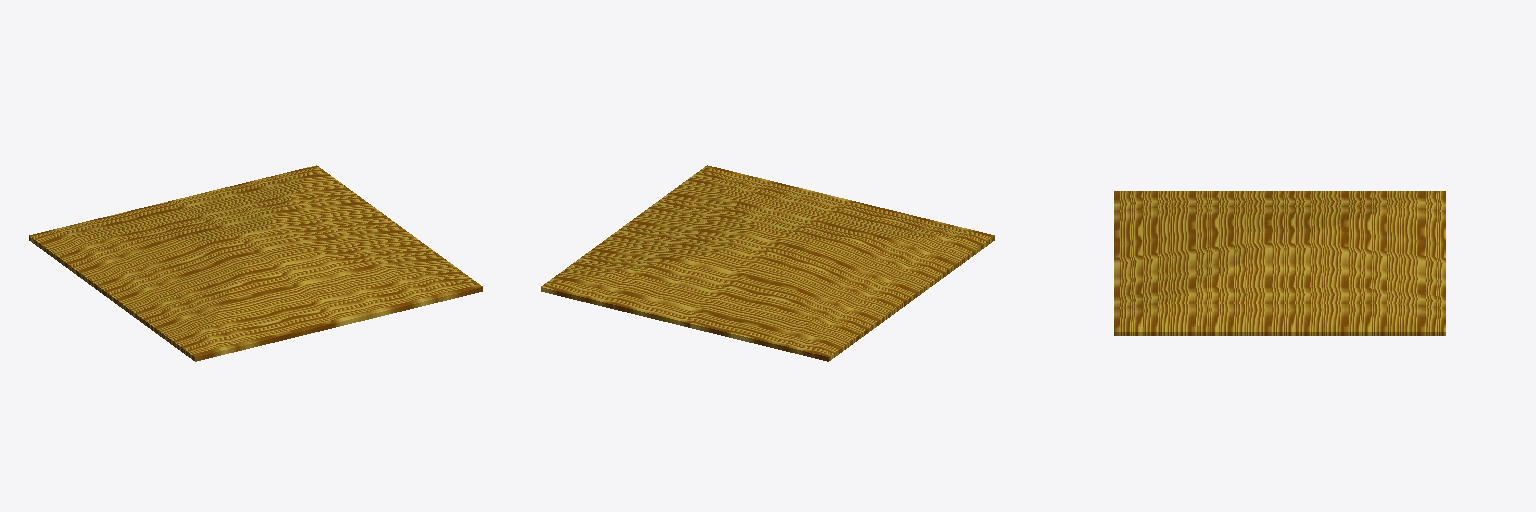
3 renders of one model, left to right at view 1: azimuth 30°, elevation 25°; view 2: azimuth 150°, elevation 25°; view 3: azimuth 270°, elevation 25°, orthographic.
Parts seen in each view (by area): view 1: Pyramid001; view 2: Pyramid001; view 3: Pyramid001.
Part boxes in pixels (x1,y1,x2,y2): Pyramid001: (29, 165, 482, 361); Pyramid001: (541, 165, 994, 361); Pyramid001: (1114, 191, 1445, 335).
Size of the model in its own units: 10 by 0.652 by 10.
1 materials, 1 textured.